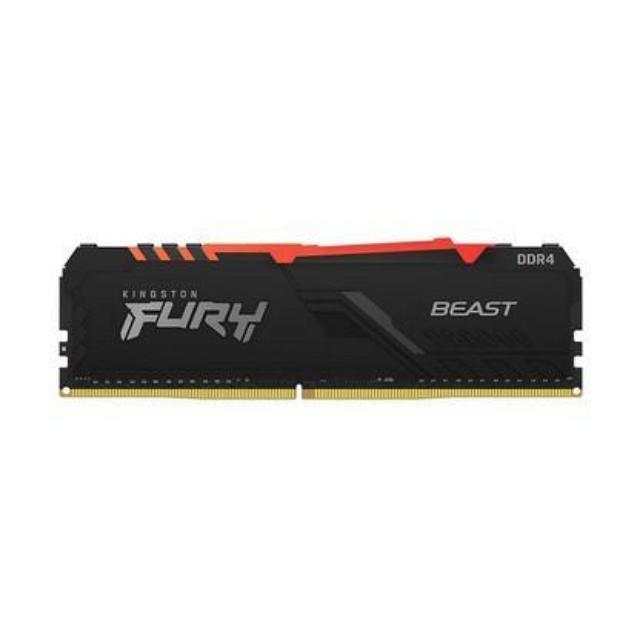RAM: (52, 236, 586, 414)
